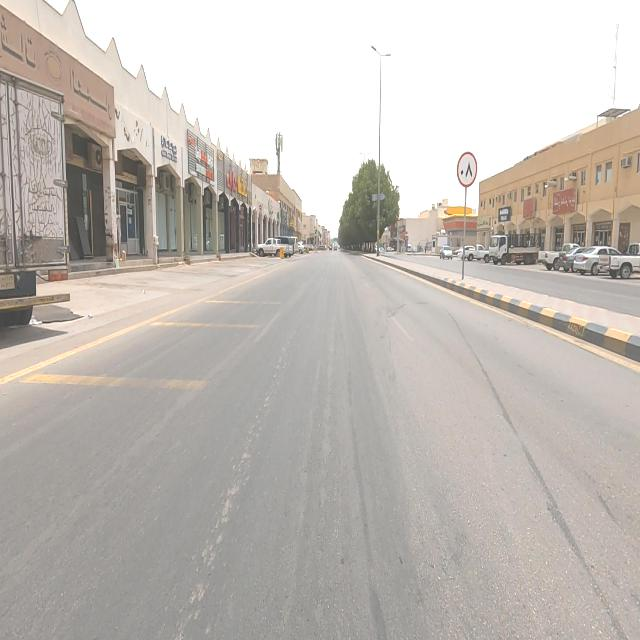debris: (506, 167, 554, 257)
